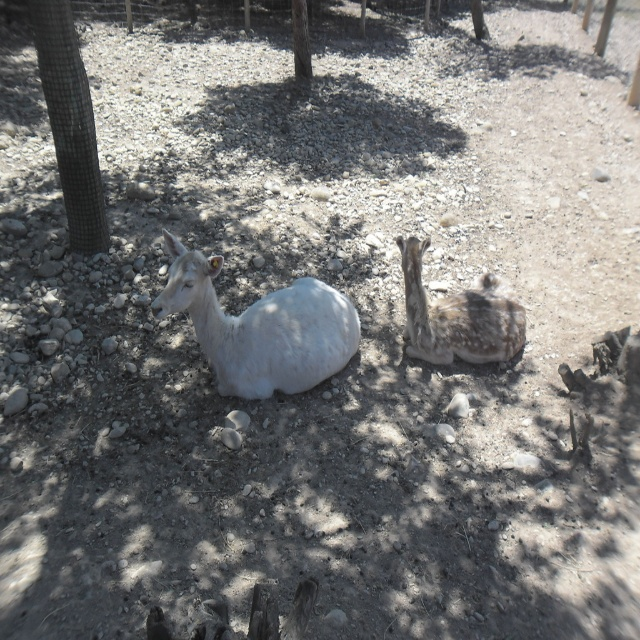Deer: (393, 235, 526, 365)
